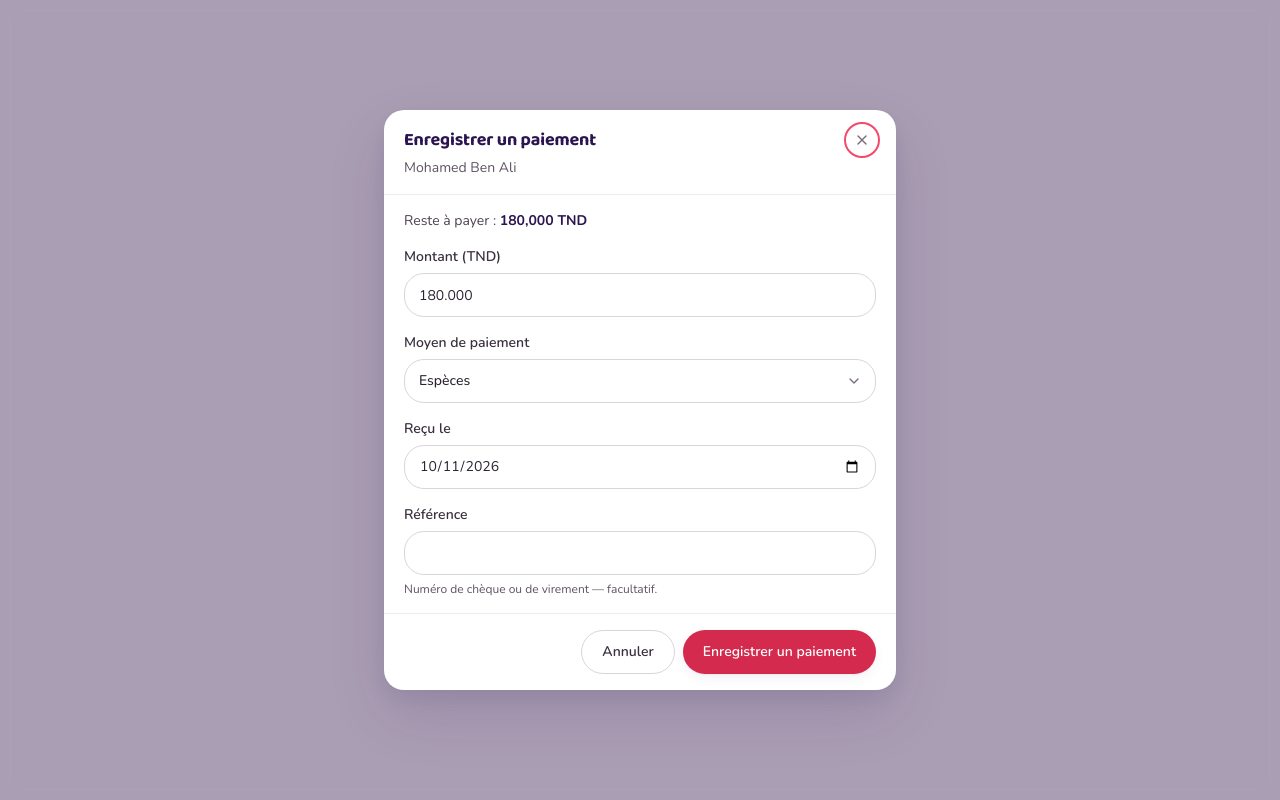
Test: recording a payment › leaves the dialog open and says so when the request fails
Click the button "Enregistrer un paiement". click: (779, 652)
box: [683,630,876,674]
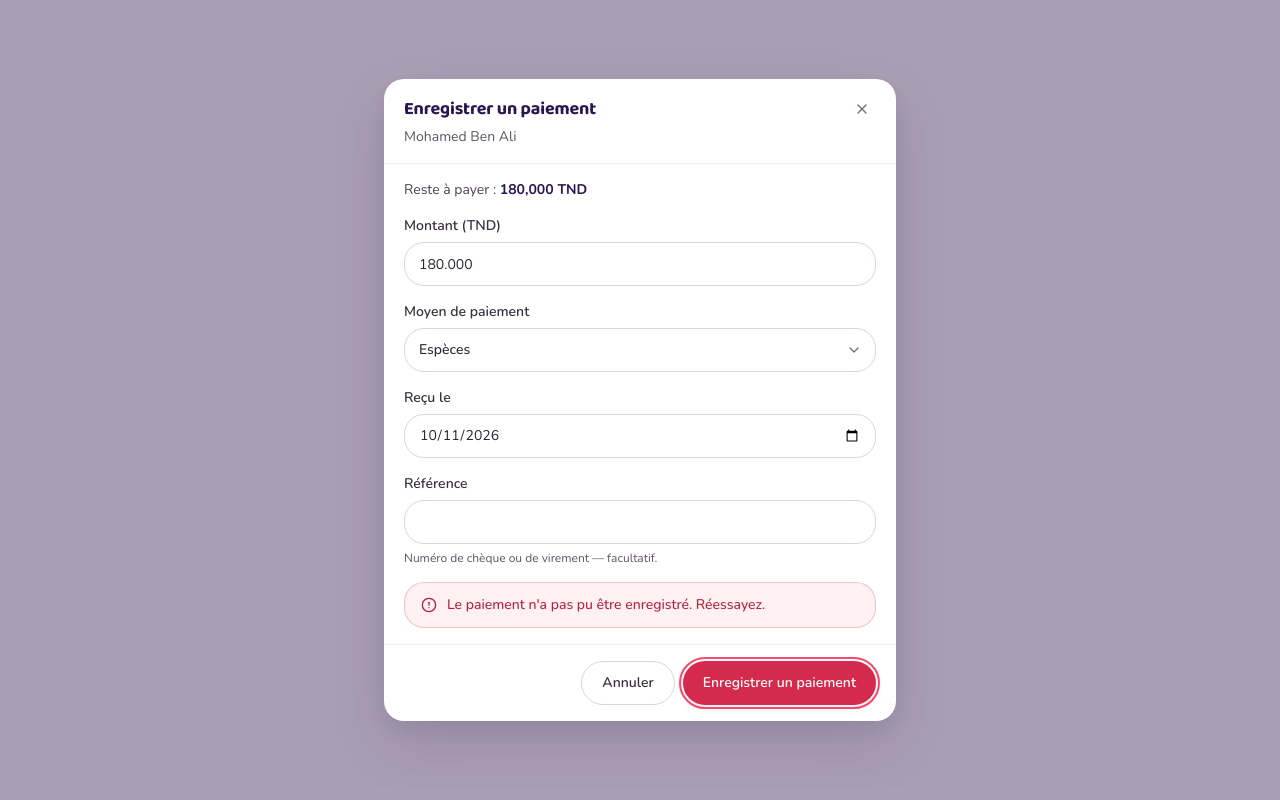
Result: the message "Le paiement n'a pas pu être enregistré. Réessayez." is shown at [404,582,876,628]
